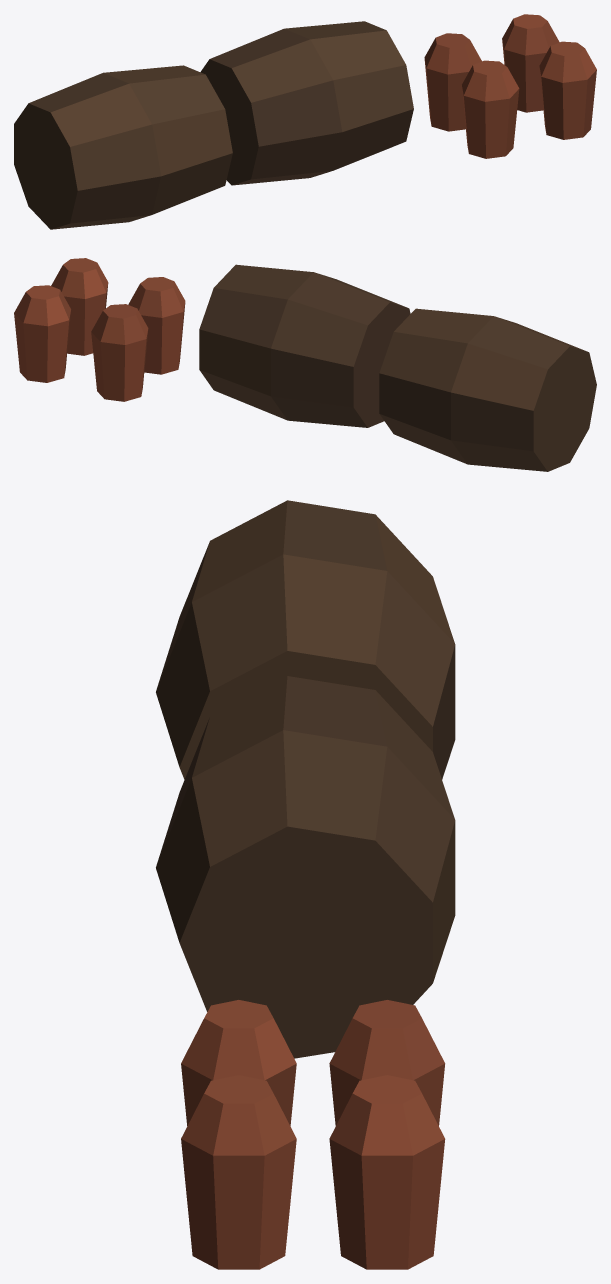
File: walk_prop_goods_ale.glb
3 views of the same model, one above another, from view 1: azimuth 30°, elevation 25°; view 2: azimuth 150°, elevation 25°; view 3: azimuth 270°, elevation 25° (orthographic). The views are drawn at different scales.
Parts seen in each view (by area): view 1: walk_prop_goods_ale; view 2: walk_prop_goods_ale; view 3: walk_prop_goods_ale.
Boxes of the visible parts, bbox=[...] form: walk_prop_goods_ale: bbox=[14, 14, 596, 229]; walk_prop_goods_ale: bbox=[14, 258, 596, 471]; walk_prop_goods_ale: bbox=[156, 500, 455, 1269].
Size of the model in its own units: 2.04 by 0.526 by 0.5043.
1 material, 1 textured.
